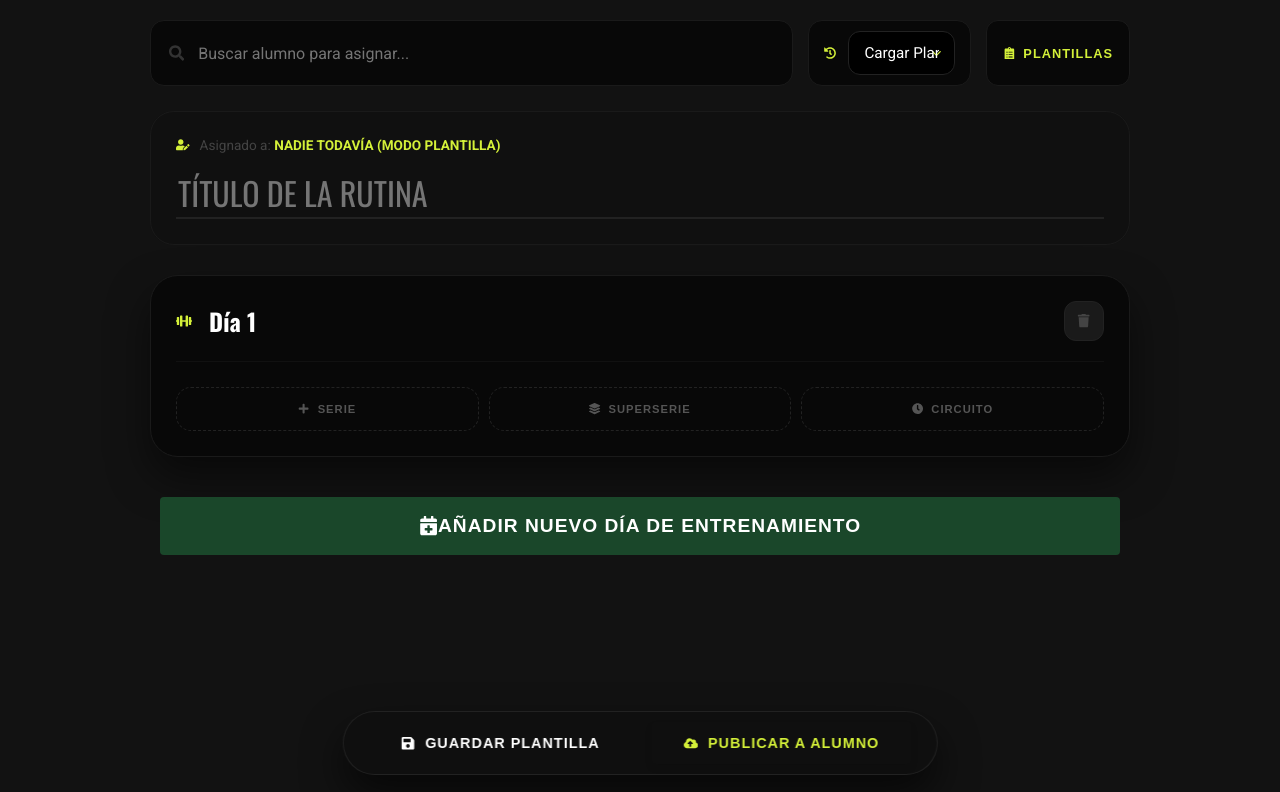
AdminDashboard — construir un plan: días, bloques, ejercicios › agrega un bloque "Serie" (standard) a una sesión
What coordinates should you click on to do the following:
click the button "Serie"
I would click on:
 (327, 409)
Its box is x1=176 y1=387 x2=479 y2=431.
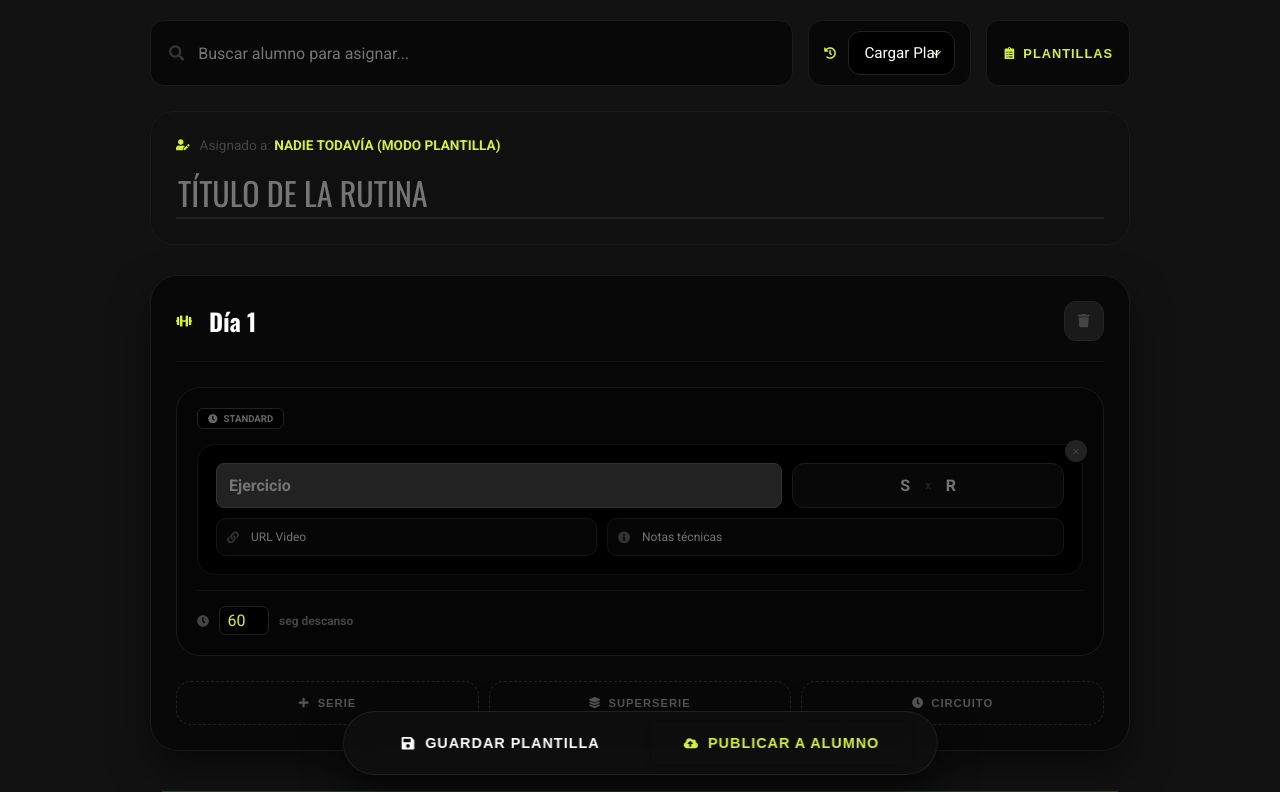
Check: the text "STANDARD" is shown, box x1=197 y1=408 x2=284 y2=429
